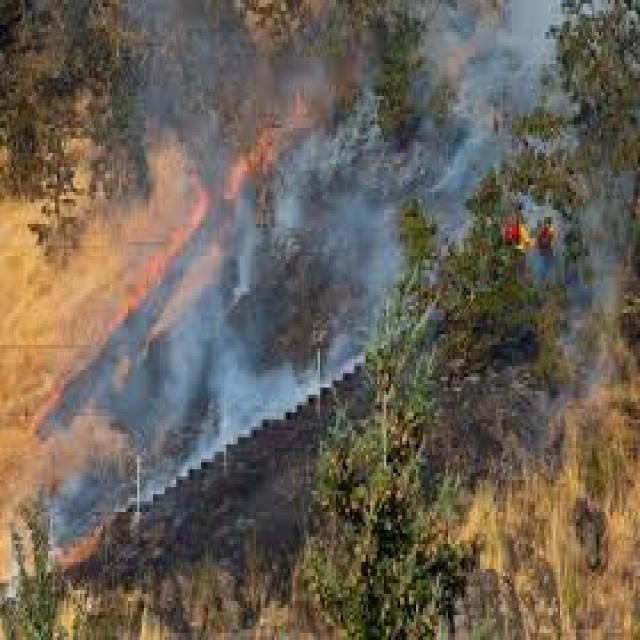Fire: (481, 297, 640, 640)
Smoke: (206, 178, 407, 326), (115, 302, 318, 445), (445, 0, 572, 131), (341, 146, 503, 216)
